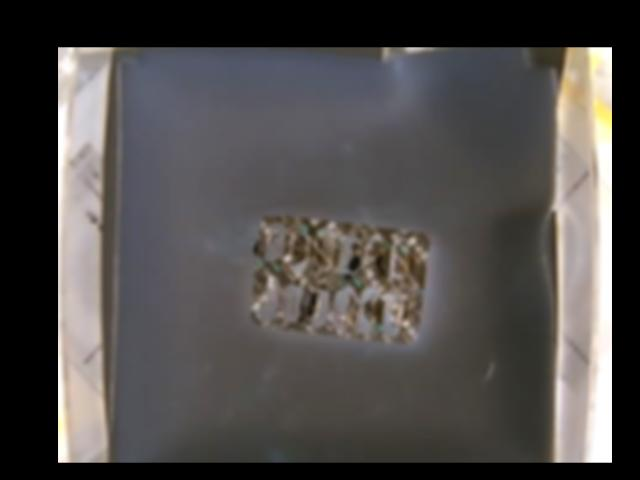Medicine: (250, 216, 428, 342)
